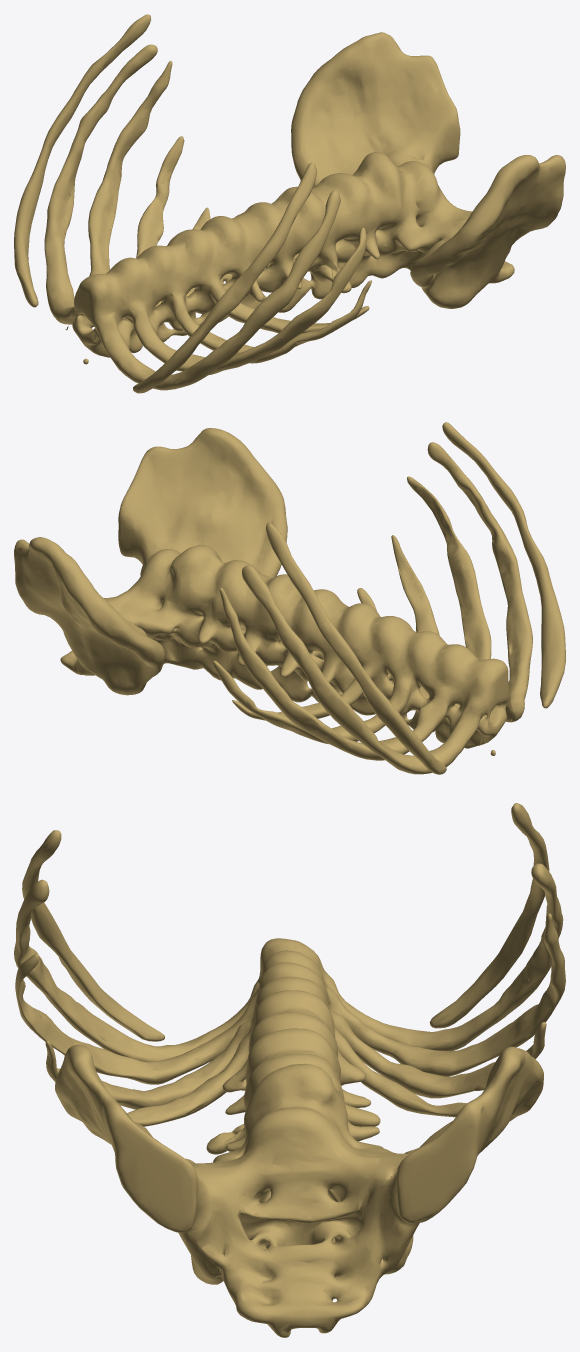
Rendered from Spine.obj.
3 renders of one model, top to bottom at view 1: azimuth 30°, elevation 25°; view 2: azimuth 150°, elevation 25°; view 3: azimuth 270°, elevation 25°, orthographic. The views are drawn at different scales.
Parts seen in each view (by area): view 1: Spine; view 2: Spine; view 3: Spine.
Part boxes in pixels (x1,y1,x2,y2): Spine: (14,14,565,393); Spine: (14,422,565,774); Spine: (14,803,565,1337).
Size of the model in its own units: 13.52 by 8.27 by 11.46.
